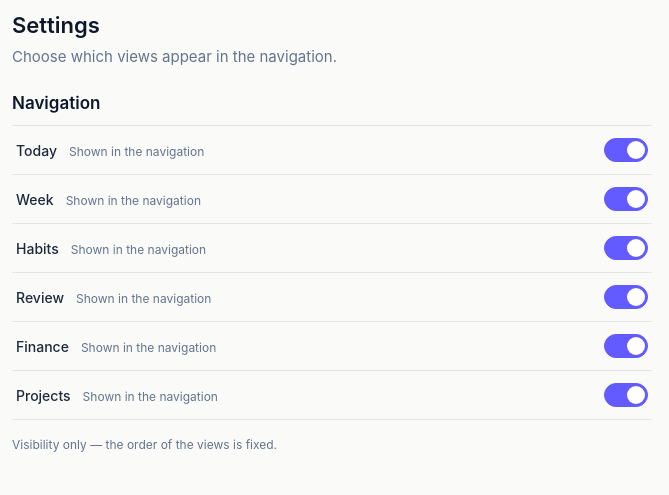
Test: SettingsView — the guardrails › reverts the optimistic toggle and explains when the write rejects
The image size is (669, 495).
Click the switch named "Show Week in the navigation".
click(626, 199)  # box [604,187,648,211]
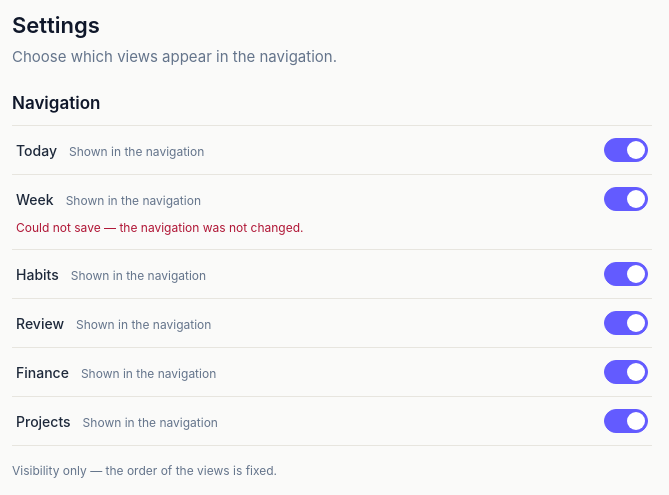
expect the text "Shown in the navigation" next to "Week" is shown: met, box [66,193,201,208]
expect the text "Could not save — the navigation was not changed." is shown: met, box [16,220,304,235]
